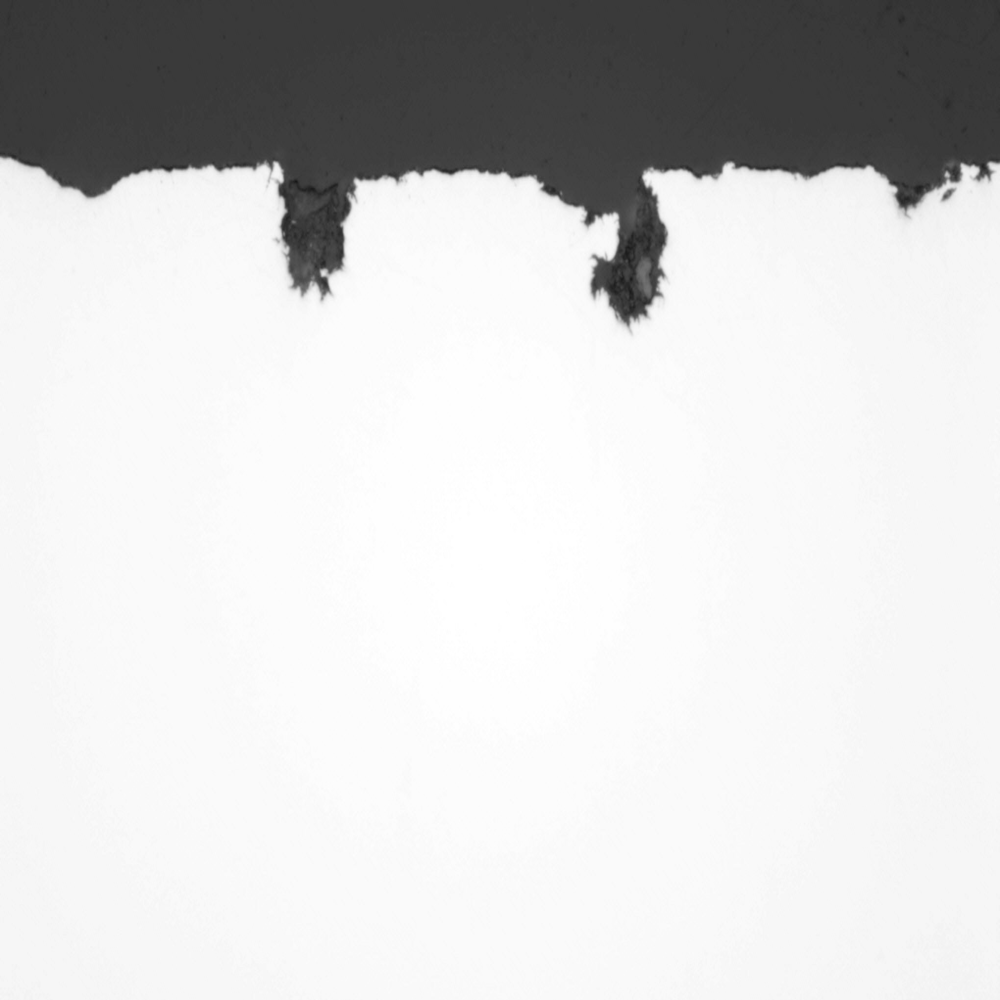crack: (542, 170, 684, 320), (245, 159, 384, 311), (858, 154, 961, 223)
